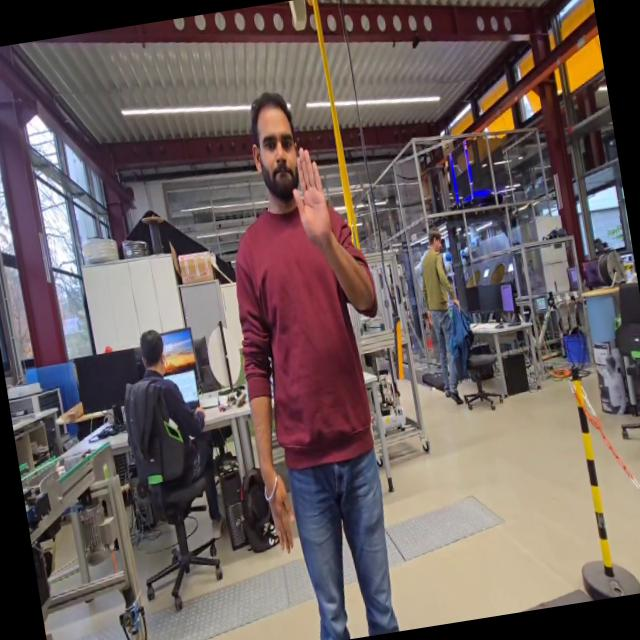open_palm: (282, 140, 340, 256)
